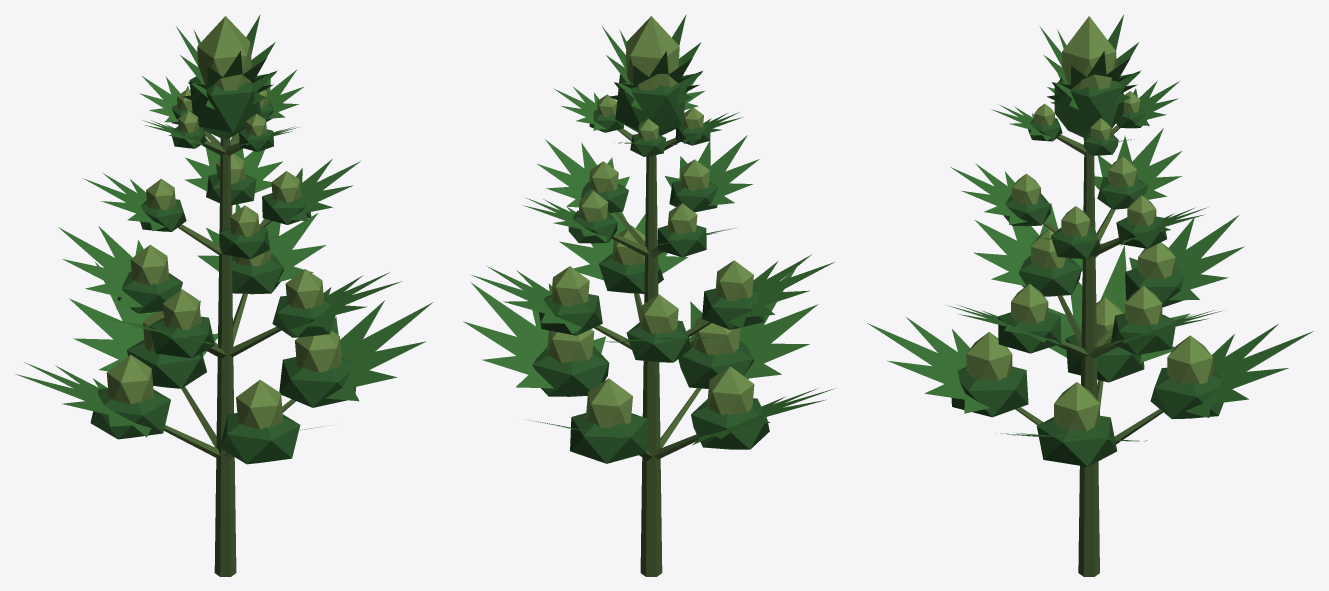
File: Weed_Plant_Stage3_Flowering.glb
The picture shows the model from 3 angles, left to right: view 1: azimuth 30°, elevation 25°; view 2: azimuth 150°, elevation 25°; view 3: azimuth 270°, elevation 25°; orthographic projection.
Visible parts, largest first — view 1: Weed_Plant_Stage3_Flowering; view 2: Weed_Plant_Stage3_Flowering; view 3: Weed_Plant_Stage3_Flowering.
Boxes of the visible parts, left/top/right/bottom form: Weed_Plant_Stage3_Flowering: left=15, top=14, right=433, bottom=576; Weed_Plant_Stage3_Flowering: left=463, top=14, right=834, bottom=576; Weed_Plant_Stage3_Flowering: left=867, top=15, right=1313, bottom=576.
Bounding box in the file's own units: 0.6963 × 0.954 × 0.6962.
